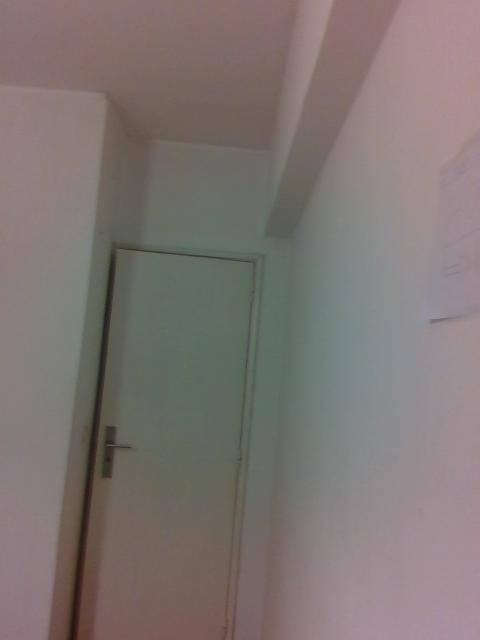door: (70, 243, 258, 639)
